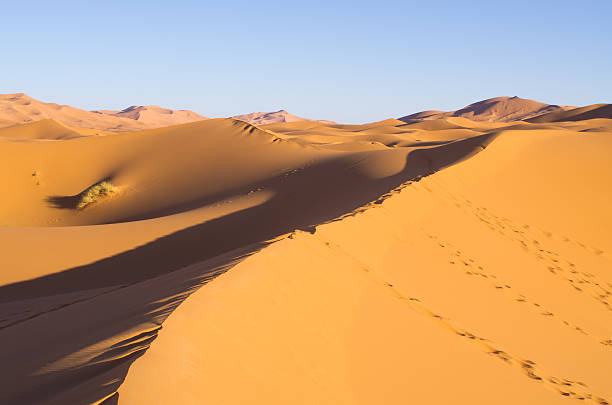animal_foot_print: (322, 240, 608, 404), (422, 229, 589, 335), (462, 203, 611, 310)
